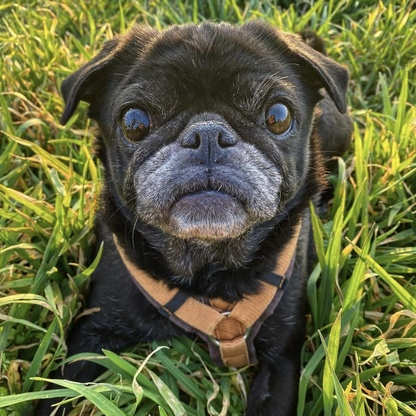Pug: (21, 11, 360, 416)
